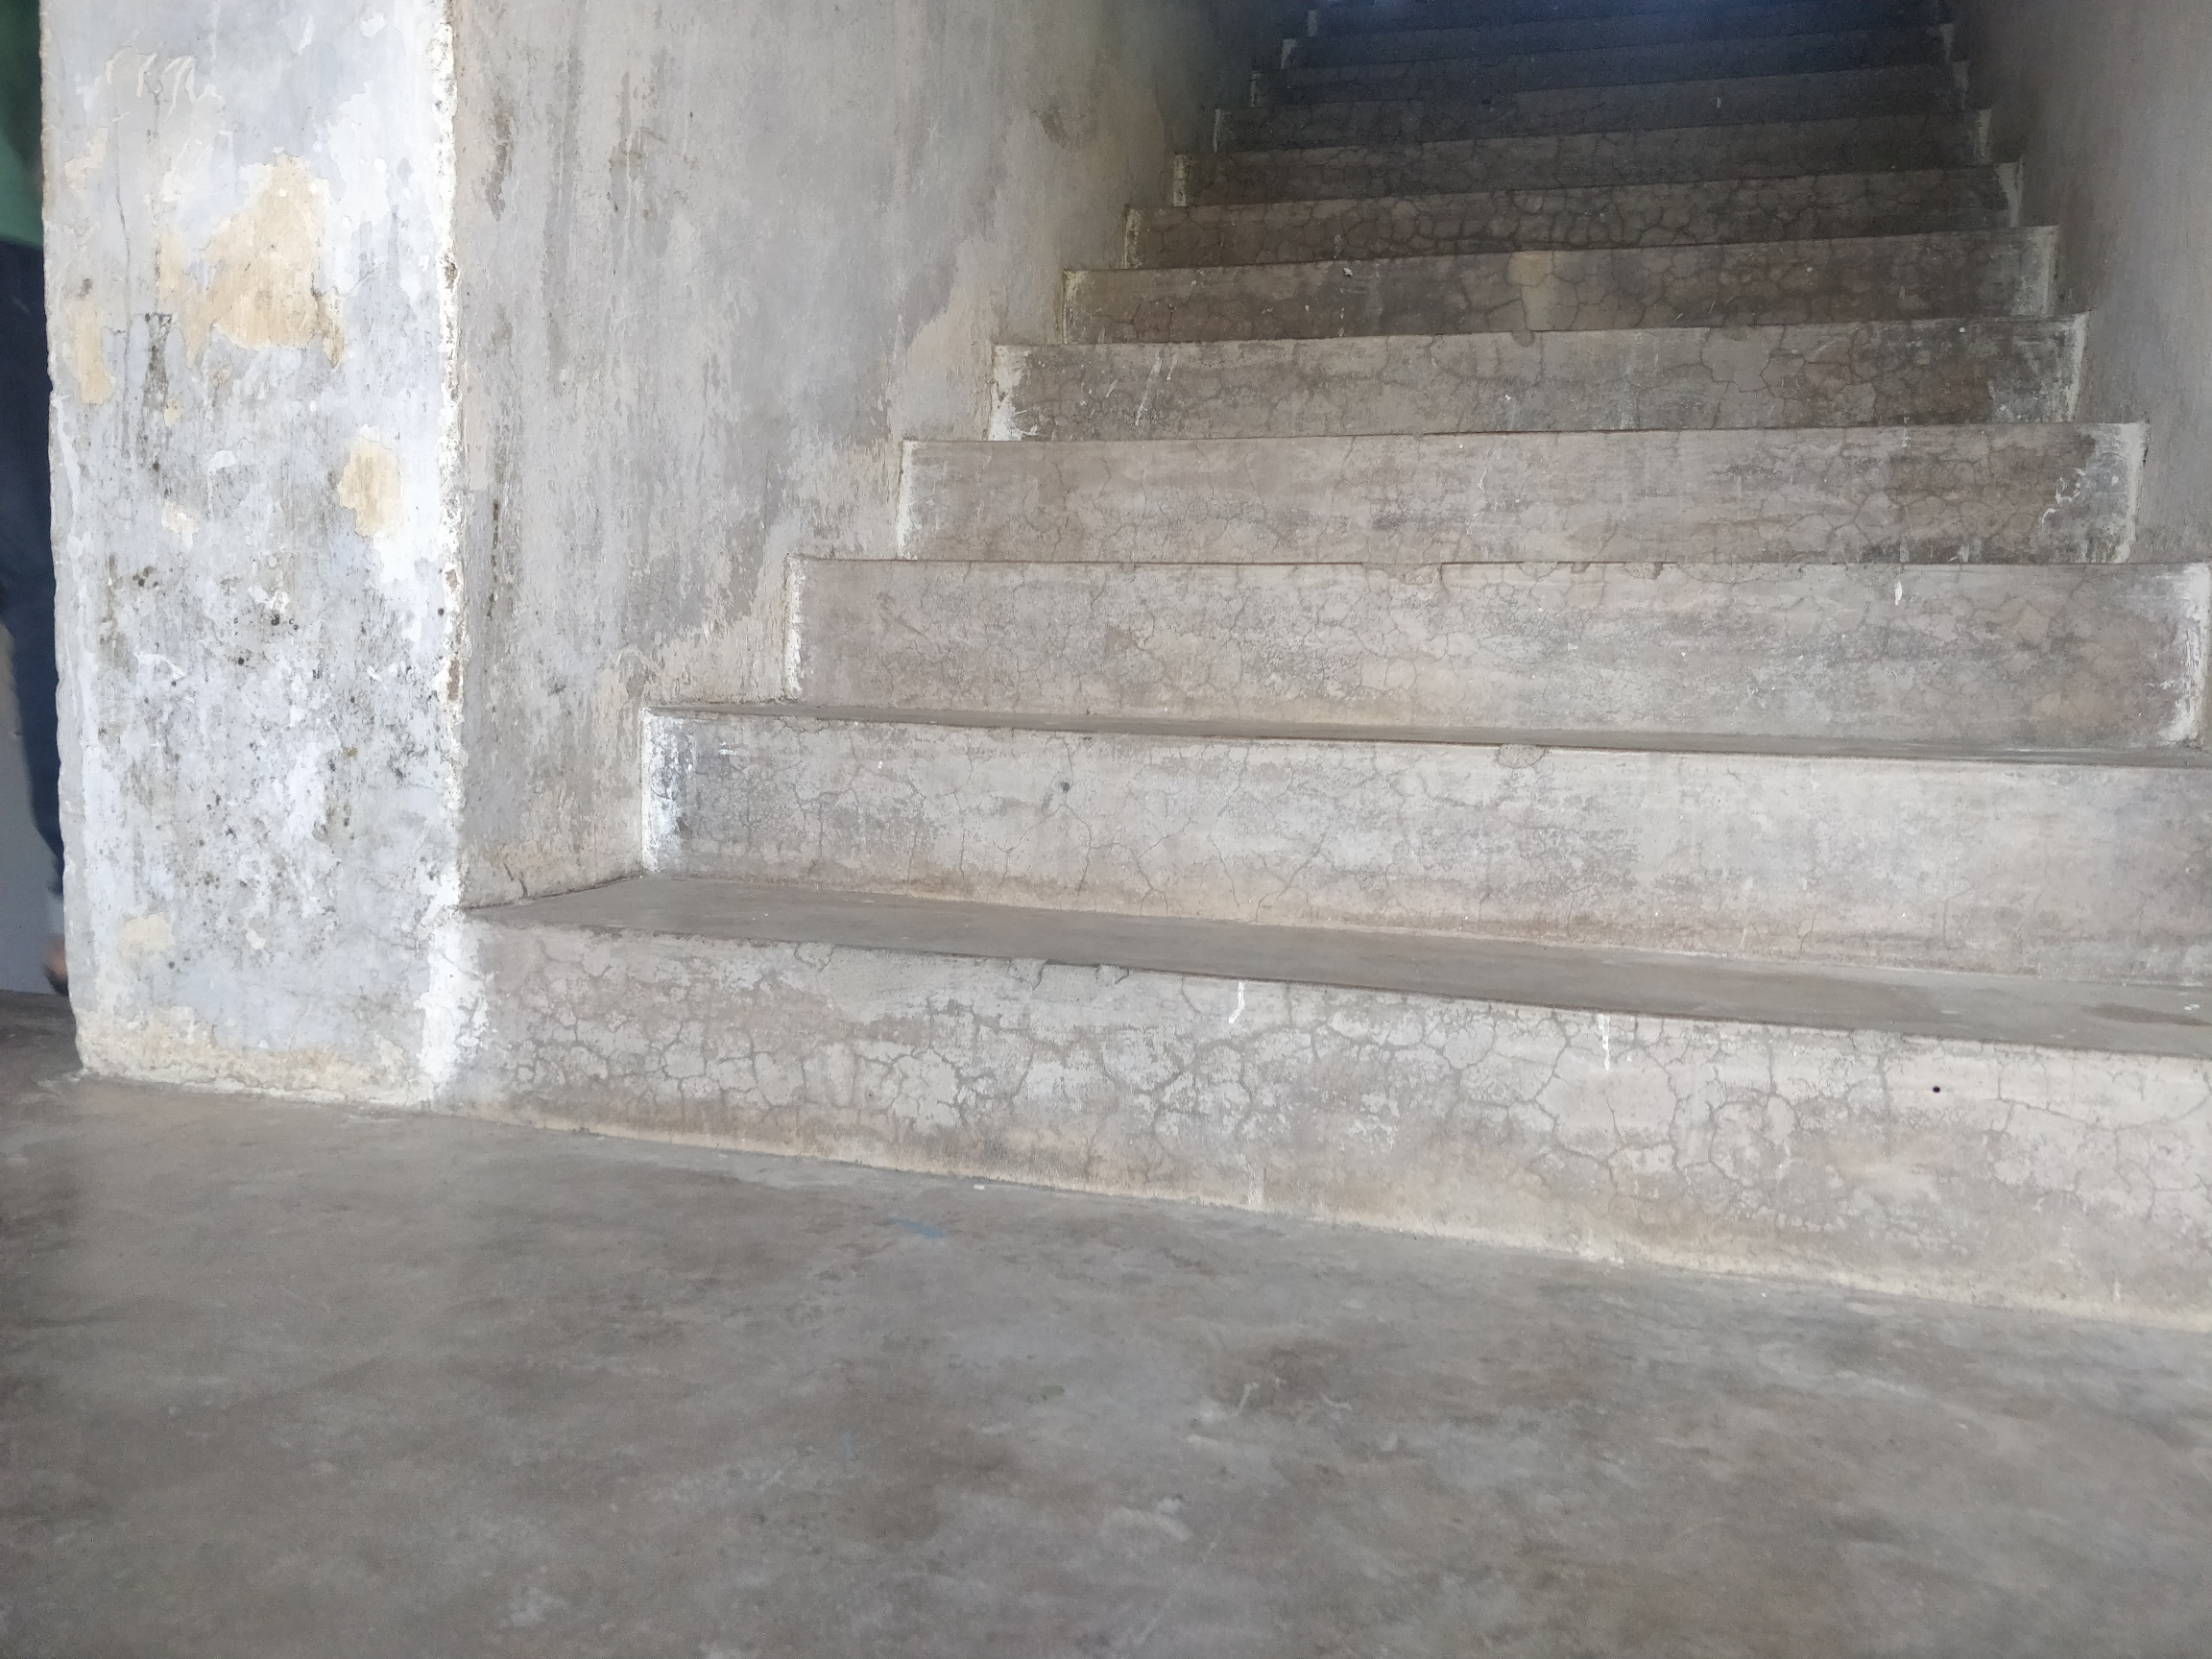stairs_up: (500, 23, 2074, 1290)
